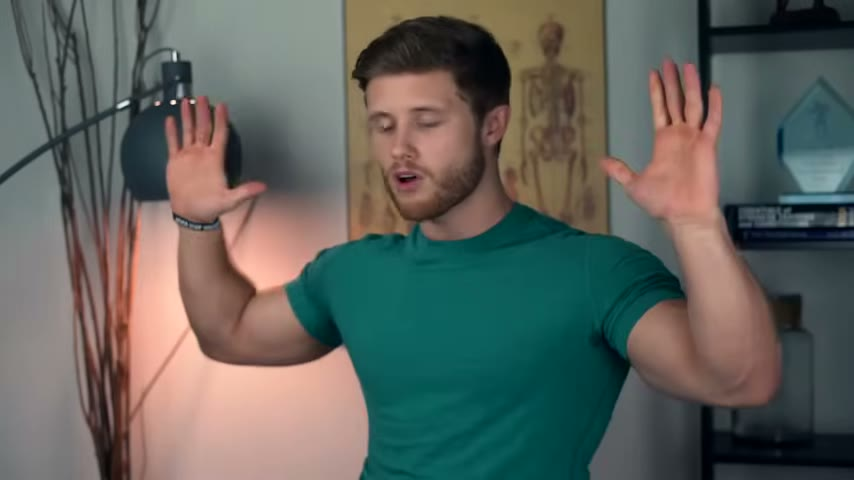barbell_plate_side: (107, 85, 264, 393)
